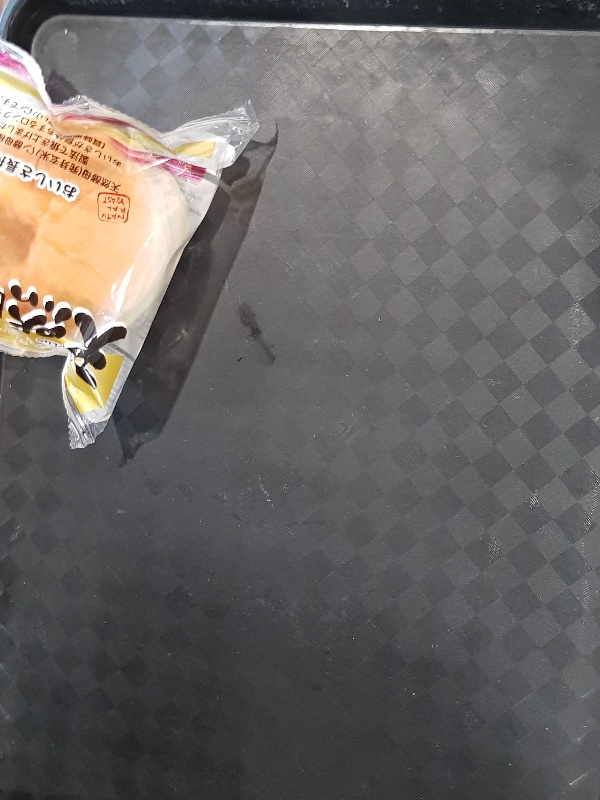Dayplus Red Bean: (1, 36, 260, 449)
